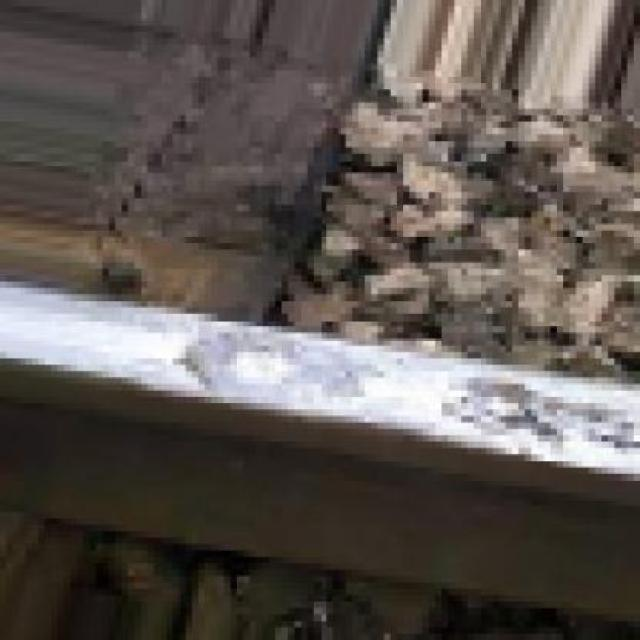defective: (2, 241, 630, 640)
